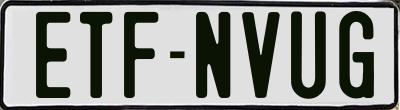E: (33, 11, 71, 102)
F: (123, 12, 158, 102)
G: (337, 11, 374, 105)
N: (194, 9, 228, 101)
T: (77, 9, 109, 99)
U: (291, 11, 326, 104)
V: (239, 9, 283, 98)
